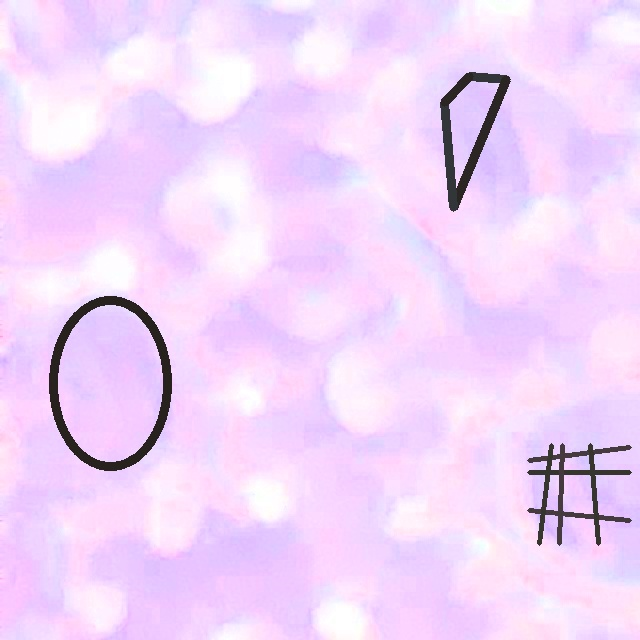close: (48, 296, 171, 470), (527, 443, 631, 545)
open: (440, 72, 510, 211)
